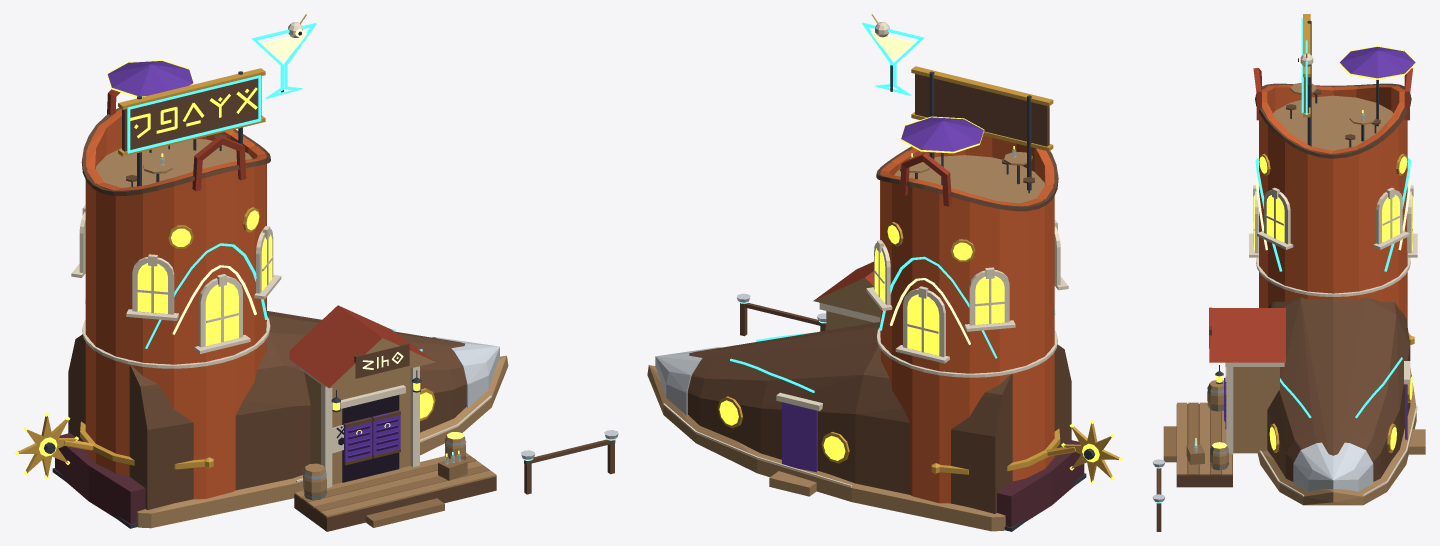
Rendered from Bldg_Saloon2.fbx.
3 views of the same model, side by side, from view 1: azimuth 30°, elevation 25°; view 2: azimuth 150°, elevation 25°; view 3: azimuth 270°, elevation 25° (orthographic). The views are drawn at different scales.
Visible parts, largest first — view 1: Bldg_Saloon_Body, Bldg_Saloon_Spur, Bldg_Saloon_Door_L, Bldg_Saloon_Door_R; view 2: Bldg_Saloon_Body, Bldg_Saloon_Spur; view 3: Bldg_Saloon_Body.
Part boxes in pixels (x1,y1,x2,y2): Bldg_Saloon_Body: [44, 14, 618, 531]; Bldg_Saloon_Spur: [14, 412, 78, 479]; Bldg_Saloon_Door_L: [343, 417, 372, 465]; Bldg_Saloon_Door_R: [372, 410, 400, 458]; Bldg_Saloon_Body: [647, 14, 1094, 531]; Bldg_Saloon_Spur: [1061, 420, 1122, 484]; Bldg_Saloon_Body: [1152, 14, 1425, 531].
Bounding box in the file's own units: 16.83 × 14.42 × 9.24.
